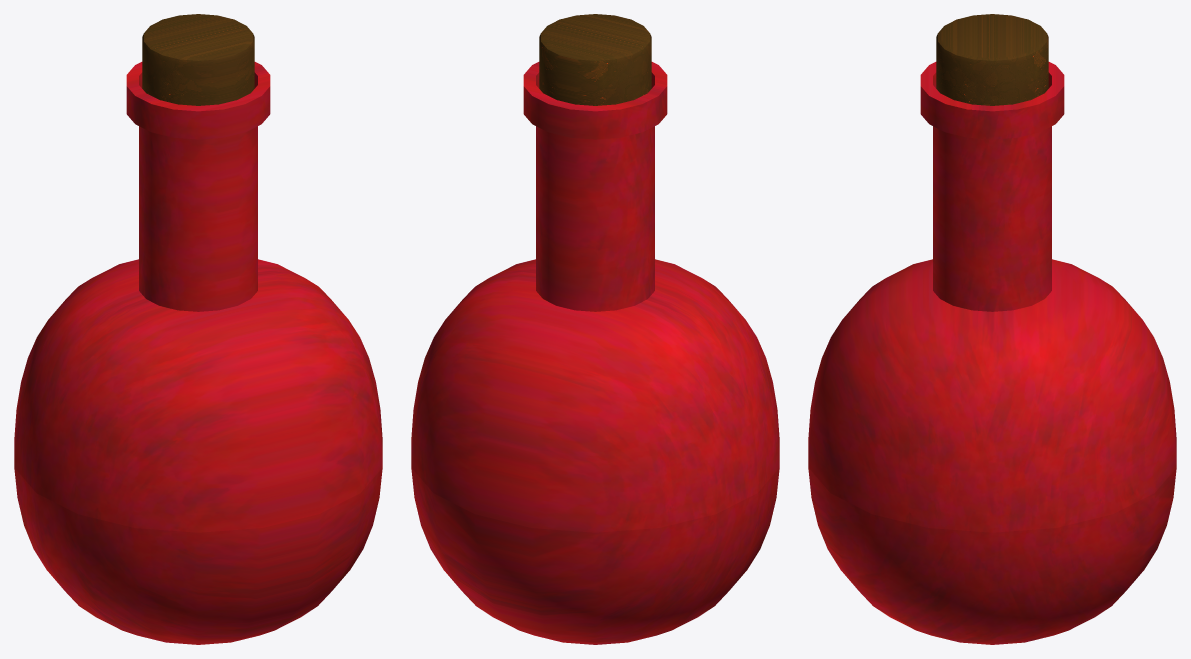
The model's file is House_Bottle02_v01.fbx.
3 views of the same model, side by side, from view 1: azimuth 30°, elevation 25°; view 2: azimuth 150°, elevation 25°; view 3: azimuth 270°, elevation 25° (orthographic).
Parts seen in each view (by area): view 1: BottleBody_02, BottleCap_02; view 2: BottleBody_02, BottleCap_02; view 3: BottleBody_02, BottleCap_02.
Boxes of the visible parts, left/top/right/bottom form: BottleBody_02: left=14, top=62, right=382, bottom=644; BottleCap_02: left=142, top=14, right=254, bottom=105; BottleBody_02: left=411, top=62, right=779, bottom=644; BottleCap_02: left=539, top=14, right=651, bottom=105; BottleBody_02: left=808, top=62, right=1176, bottom=644; BottleCap_02: left=936, top=14, right=1048, bottom=105.
Size of the model in its own units: 6 by 5.91 by 10.39.
2 materials, 2 textured.
